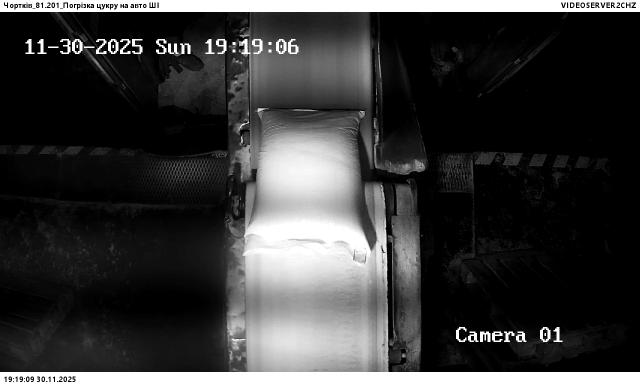bag: (244, 108, 371, 264)
